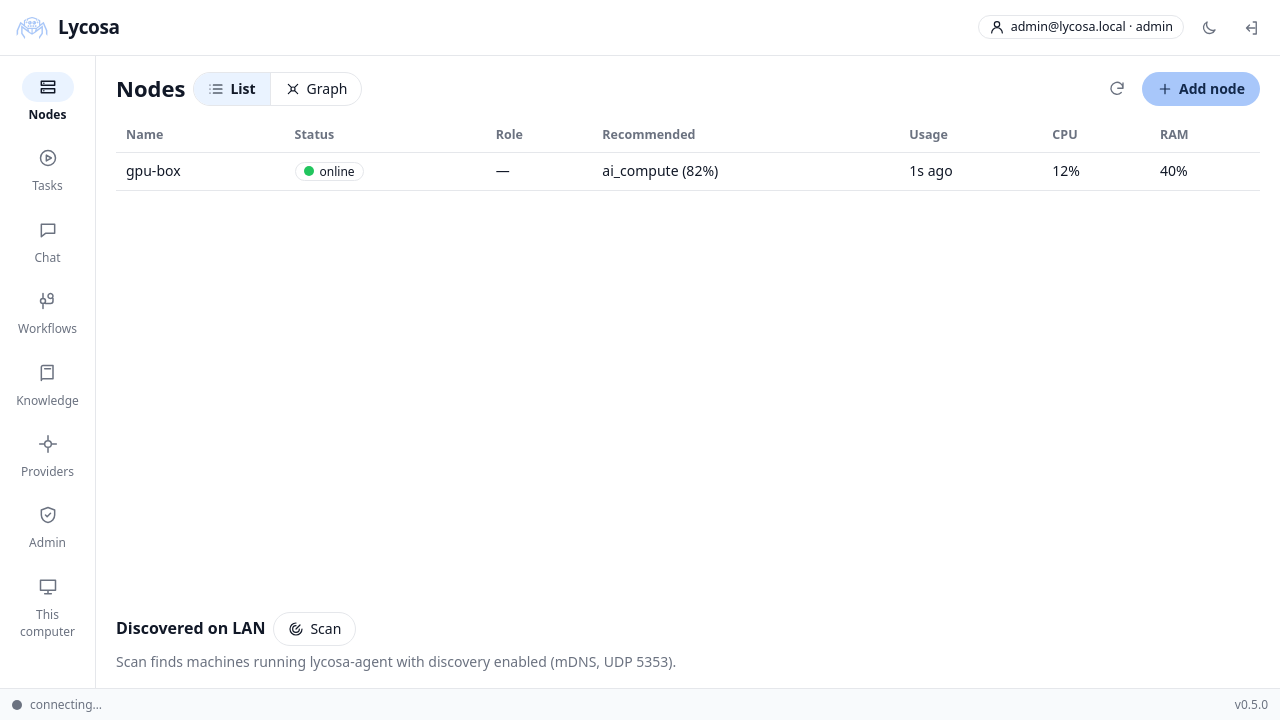
nodes › sets a role and installs a model
Click the text "gpu-box". click: (200, 172)
box: [116,153,284,190]
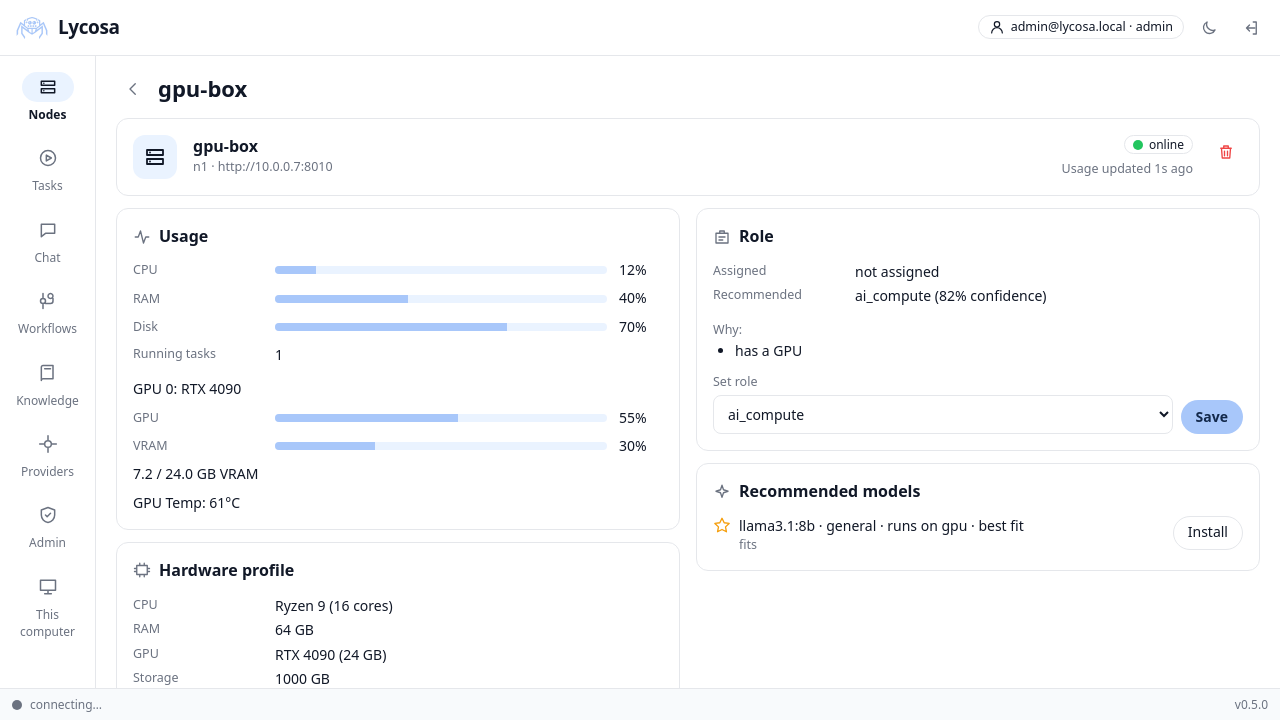
Click the button "Save". click: (1212, 417)
box: [1181,400,1243,434]
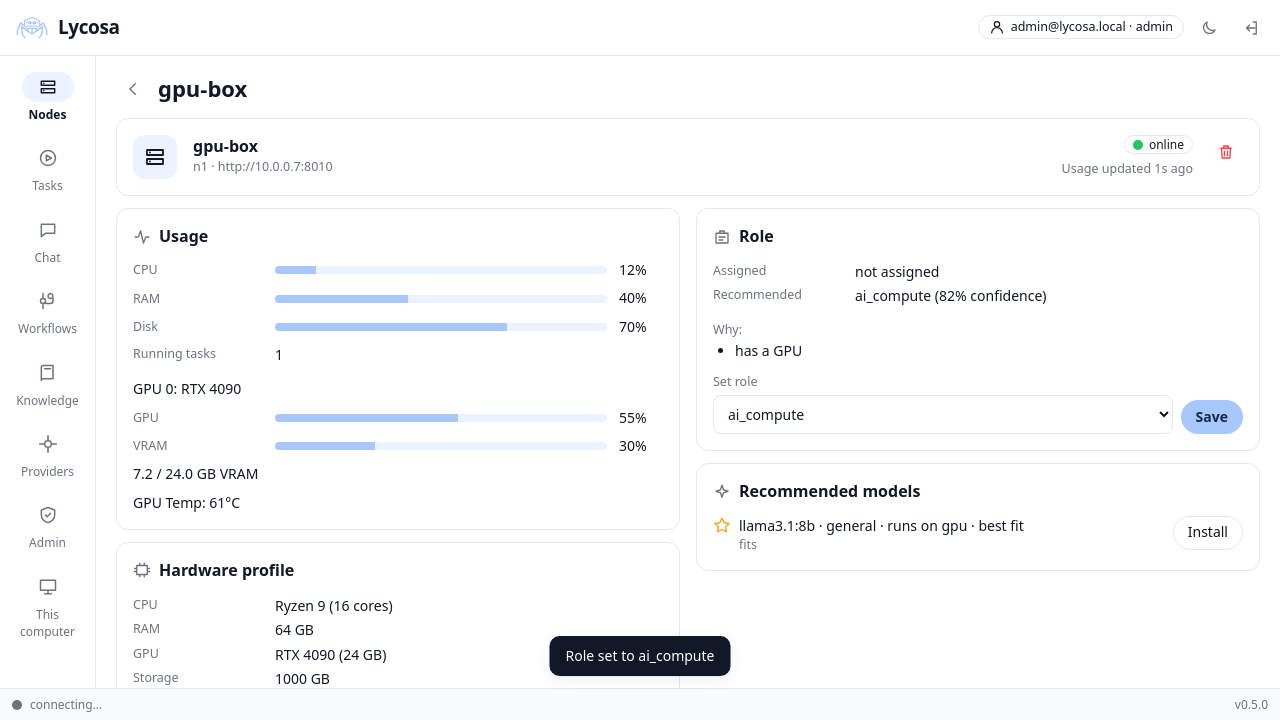
Check: the text "Role set to ai_compute" is shown, box [550,636,730,676]
Click the button "Install". click: (1208, 532)
box: [1173,516,1243,550]
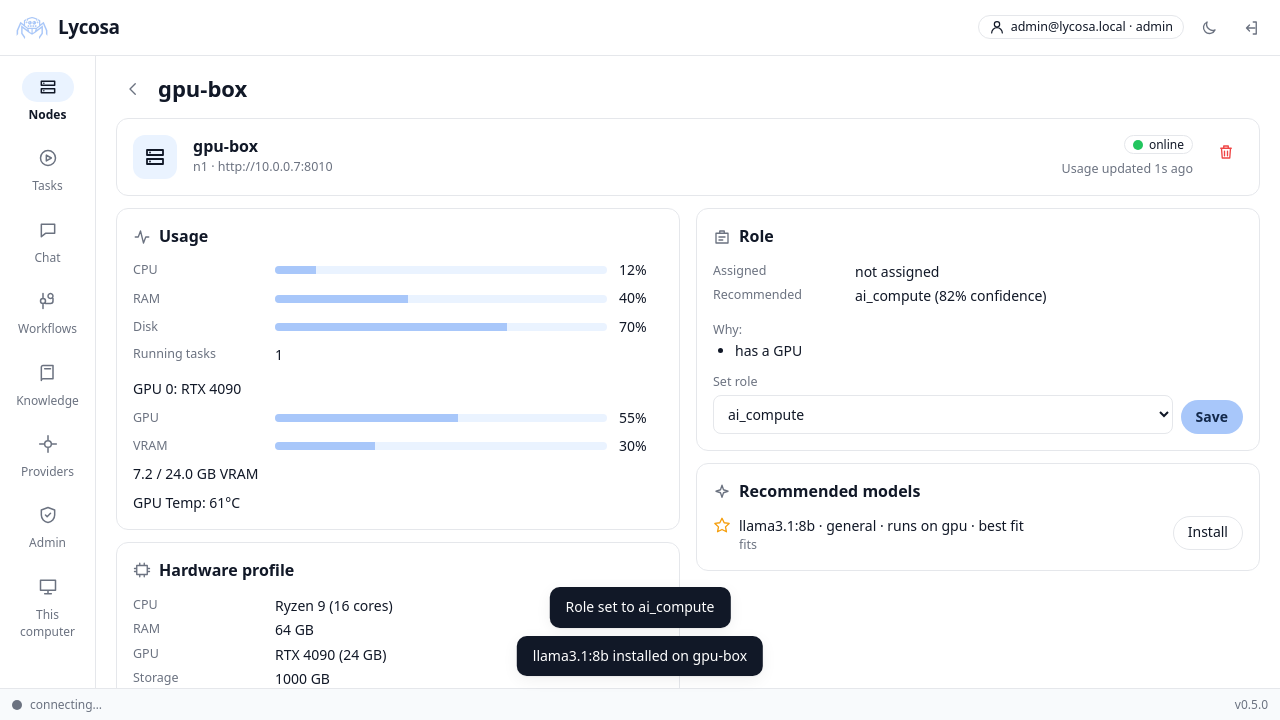
Check: the text "llama3.1:8b installed on gpu-box" is shown, box [517,636,763,676]
